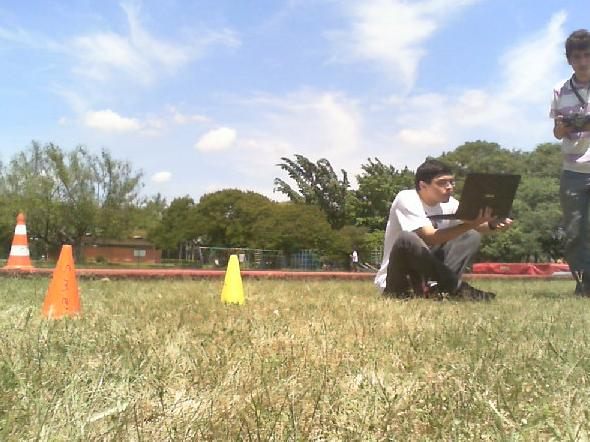0 cone: (39, 244, 83, 319), (3, 214, 33, 269), (219, 255, 245, 304)
